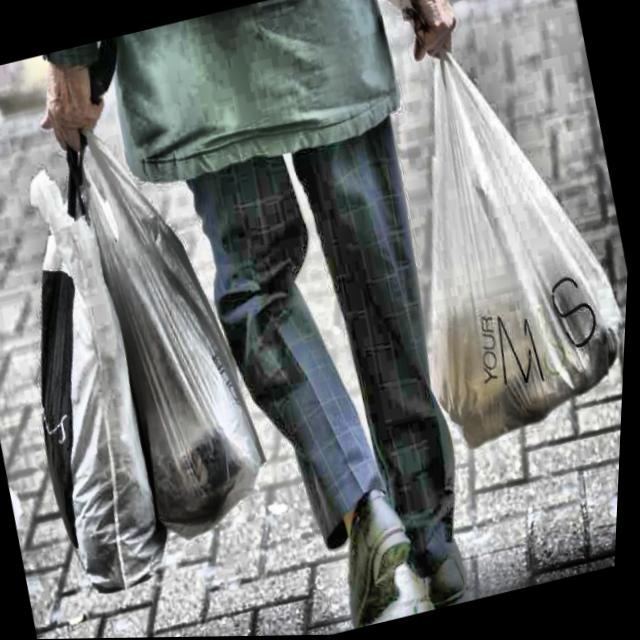Plastic: (347, 6, 640, 476), (65, 98, 299, 550), (0, 145, 211, 620)
